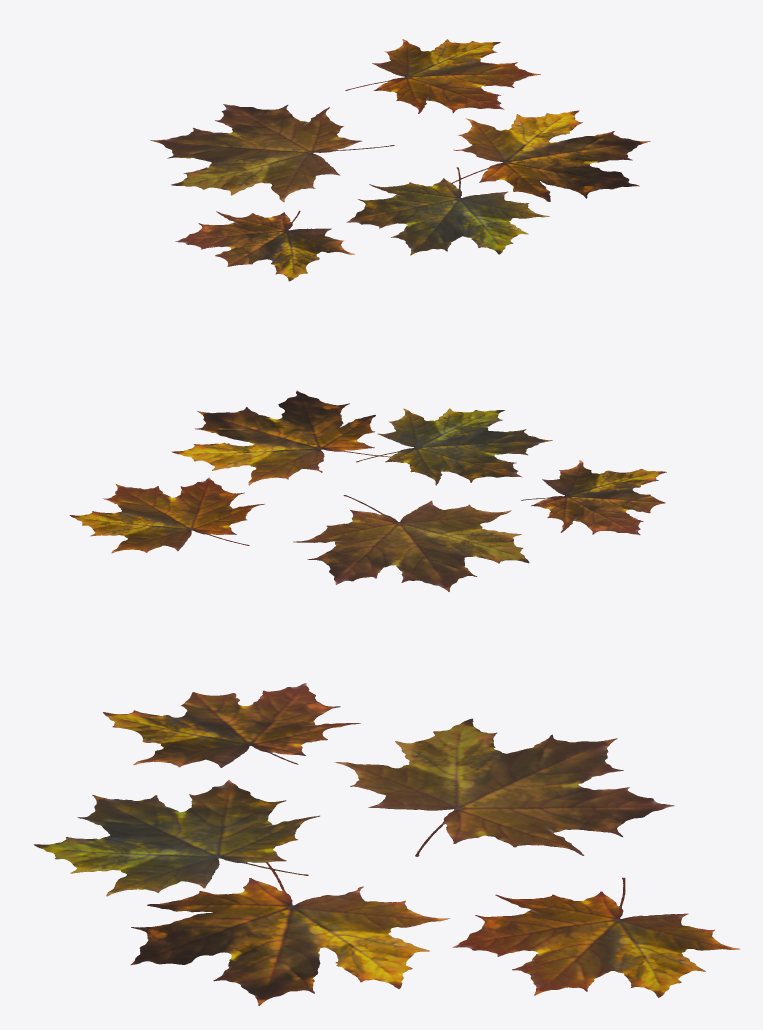
The model's file is Leaves_Floor_01_D.fbx.
3 views of the same model, one above another, from view 1: azimuth 30°, elevation 25°; view 2: azimuth 150°, elevation 25°; view 3: azimuth 270°, elevation 25° (orthographic). The views are drawn at different scales.
Visible parts, largest first — view 1: Leaves_Floor_01_D; view 2: Leaves_Floor_01_D; view 3: Leaves_Floor_01_D.
Part boxes in pixels (x1,y1,x2,y2): Leaves_Floor_01_D: (150, 39, 650, 281); Leaves_Floor_01_D: (69, 390, 666, 591); Leaves_Floor_01_D: (33, 683, 739, 1005).
Bounding box in the file's own units: 89.7 × 1.11 × 82.51.
